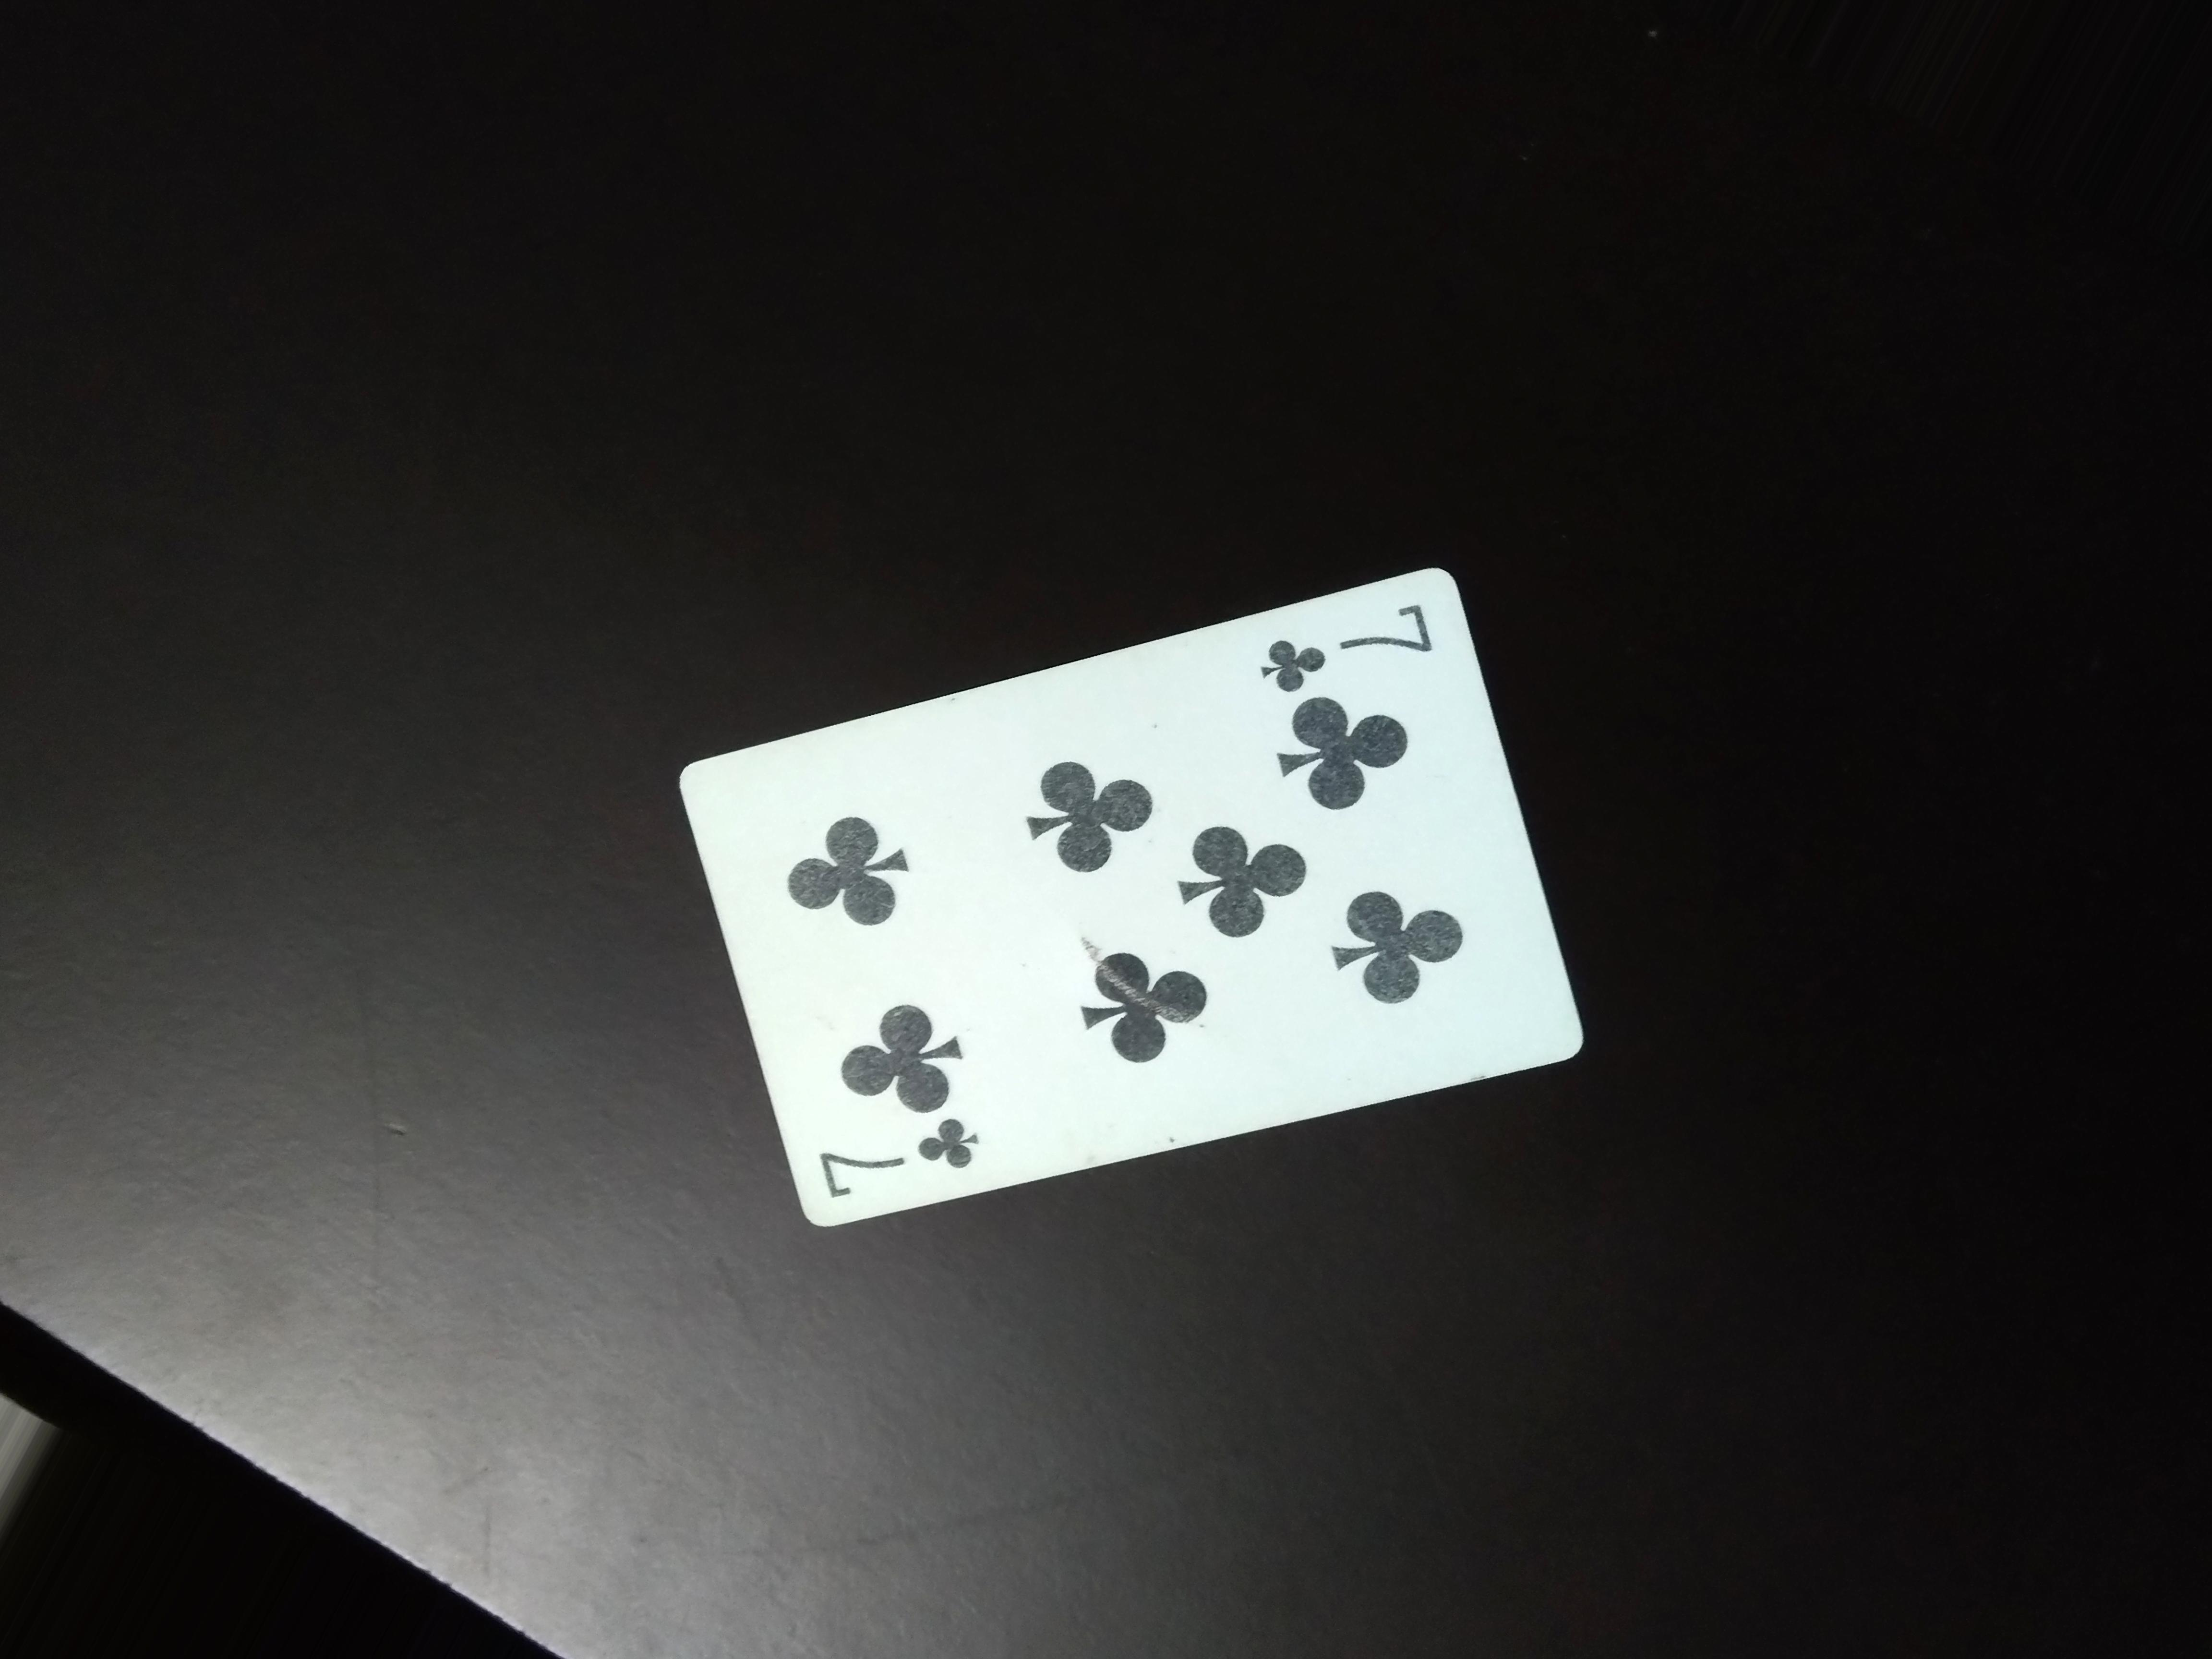7C: (787, 1115, 1000, 1195)
